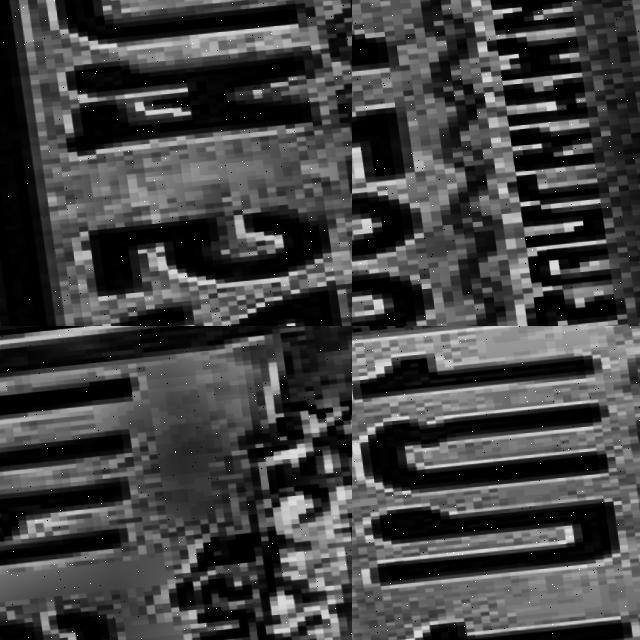license-plate: (0, 0, 352, 326), (0, 326, 352, 640), (352, 0, 640, 326), (352, 326, 640, 640)
